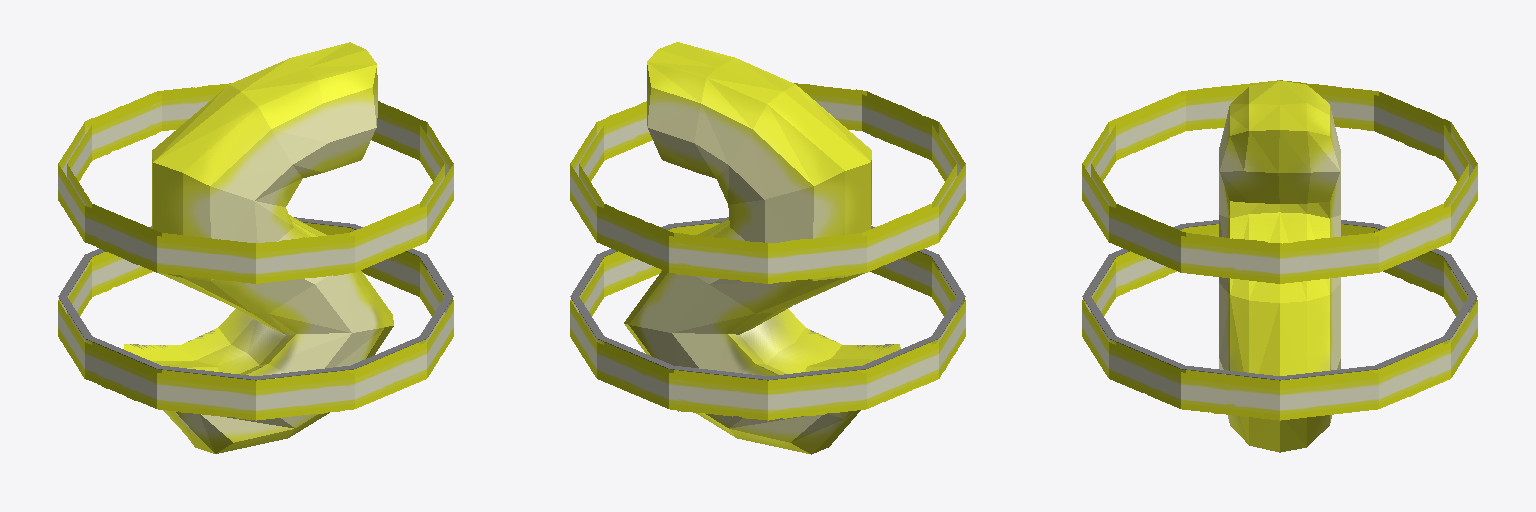
3 renders of one model, left to right at view 1: azimuth 30°, elevation 25°; view 2: azimuth 150°, elevation 25°; view 3: azimuth 270°, elevation 25°, orthographic.
Parts seen in each view (by area): view 1: slow:group1pCube1, slow:group1pCylinder2, slow:pCylinder1group1; view 2: slow:group1pCube1, slow:group1pCylinder2, slow:pCylinder1group1; view 3: slow:group1pCube1, slow:group1pCylinder2, slow:pCylinder1group1.
Part boxes in pixels (bbox=[...]): slow:group1pCube1: bbox=[124, 42, 393, 453]; slow:group1pCylinder2: bbox=[58, 83, 453, 283]; slow:pCylinder1group1: bbox=[58, 217, 453, 420]; slow:group1pCube1: bbox=[624, 42, 900, 454]; slow:group1pCylinder2: bbox=[570, 83, 965, 283]; slow:pCylinder1group1: bbox=[570, 217, 965, 420]; slow:group1pCube1: bbox=[1219, 80, 1340, 452]; slow:group1pCylinder2: bbox=[1082, 80, 1477, 283]; slow:pCylinder1group1: bbox=[1082, 220, 1477, 420].
Bounding box in the file's own units: 3.39 × 3.4 × 3.39.
Materials: 1 (1 with a texture image).